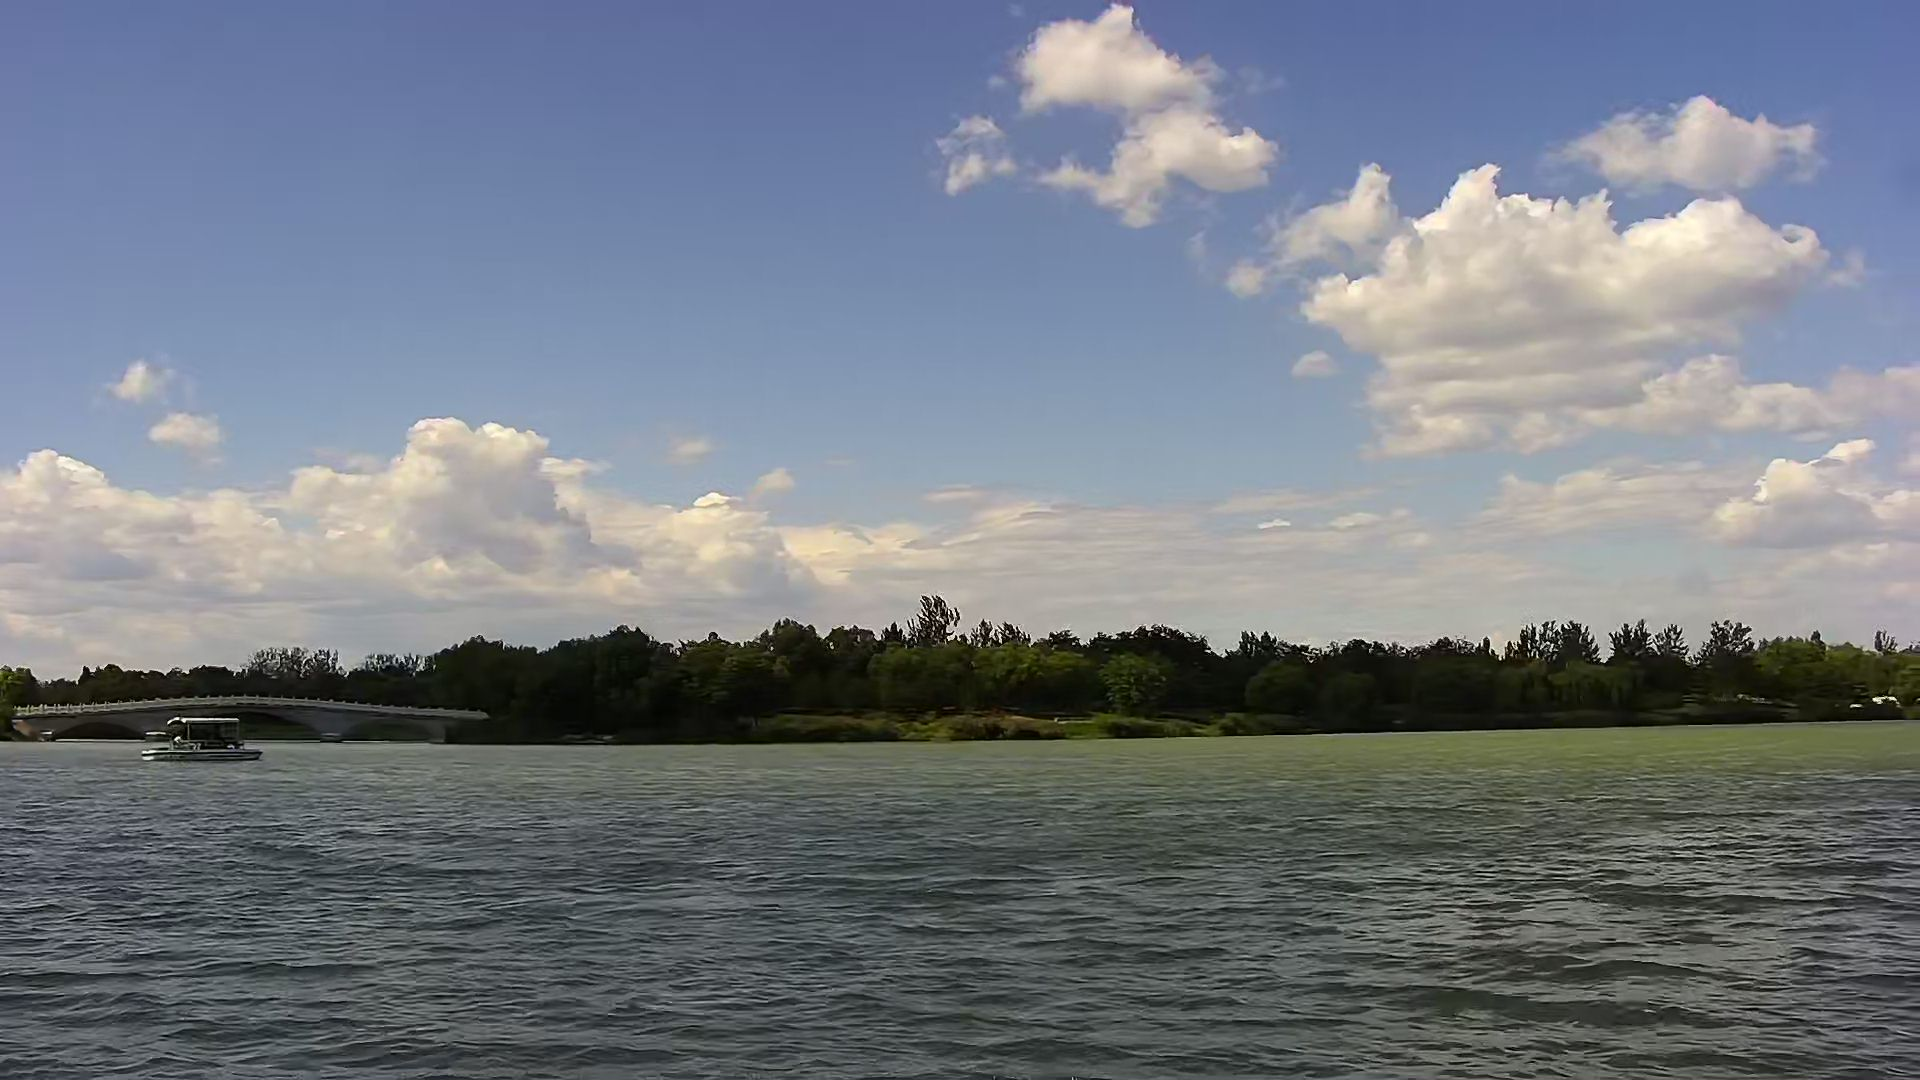boat: (133, 711, 264, 765)
bridge: (15, 688, 480, 746)
